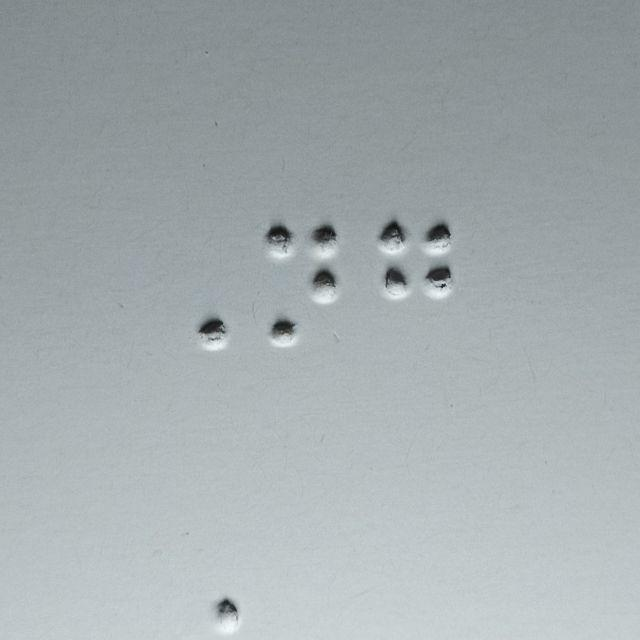G: (379, 218, 456, 349)
N: (265, 223, 341, 354)
capital: (154, 221, 230, 353)
